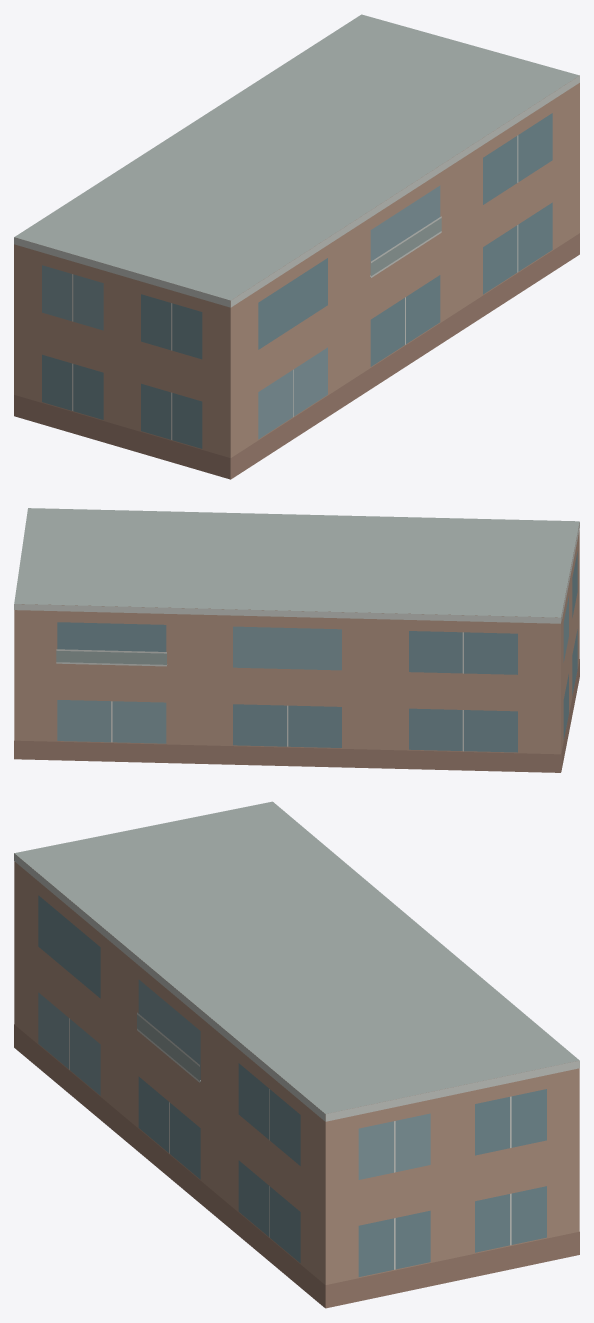
The model's file is survey-upis-33000979.glb.
The picture shows the model from 3 angles, top to bottom: view 1: azimuth 30°, elevation 25°; view 2: azimuth 150°, elevation 25°; view 3: azimuth 270°, elevation 25°; orthographic projection. The views are drawn at different scales.
Parts seen in each view (by area): view 1: survey-upis-33000979.tmp; view 2: survey-upis-33000979.tmp; view 3: survey-upis-33000979.tmp.
Part boxes in pixels (bbox=[...]): survey-upis-33000979.tmp: bbox=[14, 14, 579, 479]; survey-upis-33000979.tmp: bbox=[14, 508, 579, 772]; survey-upis-33000979.tmp: bbox=[14, 801, 579, 1308].
Bounding box in the file's own units: 21.05 × 6.1 × 16.1.
